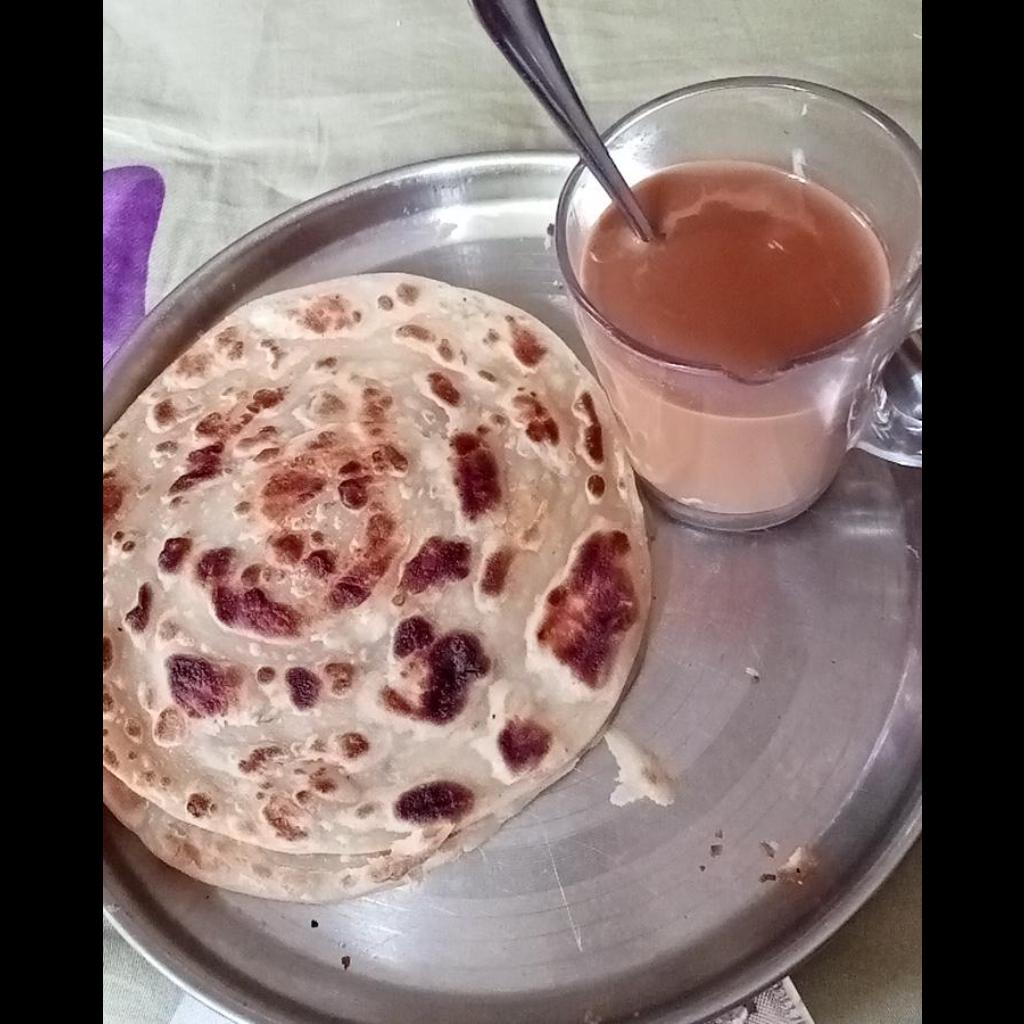cha: (581, 165, 884, 370)
ruti: (104, 277, 648, 907)
